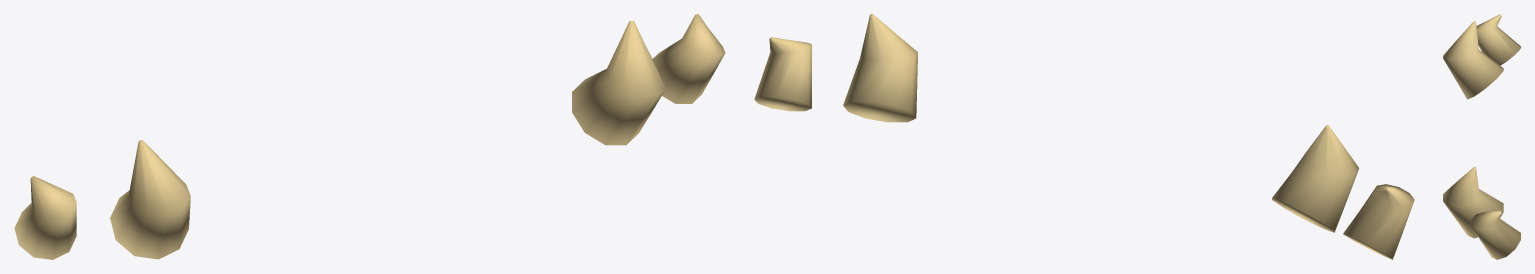
File: 07_Teeth.fbx
The picture shows the model from 3 angles, left to right: view 1: azimuth 30°, elevation 25°; view 2: azimuth 150°, elevation 25°; view 3: azimuth 270°, elevation 25°; orthographic projection. The views are drawn at different scales.
Parts seen in each view (by area): view 1: Fang.L1, Fang.R1, Fang.R2, Fang.L2; view 2: Fang.L1, Fang.R1, Fang.L2, Fang.R2; view 3: Fang.R1, Fang.L1, Fang.L2, Fang.R2.
Part boxes in pixels (x1,y1,x2,y2): Fang.L1: (572,20,665,145); Fang.R1: (110,140,190,259); Fang.R2: (14,176,76,259); Fang.L2: (652,14,725,103); Fang.L1: (843,14,917,122); Fang.R1: (1272,125,1359,232); Fang.L2: (754,37,811,111); Fang.R2: (1343,184,1414,259); Fang.R1: (1443,21,1503,99); Fang.L1: (1443,166,1503,238); Fang.L2: (1470,211,1520,259); Fang.R2: (1476,14,1520,65).
Size of the model in its own units: 22.74 by 3.72 by 3.67.
Materials: 1 (1 with a texture image).
